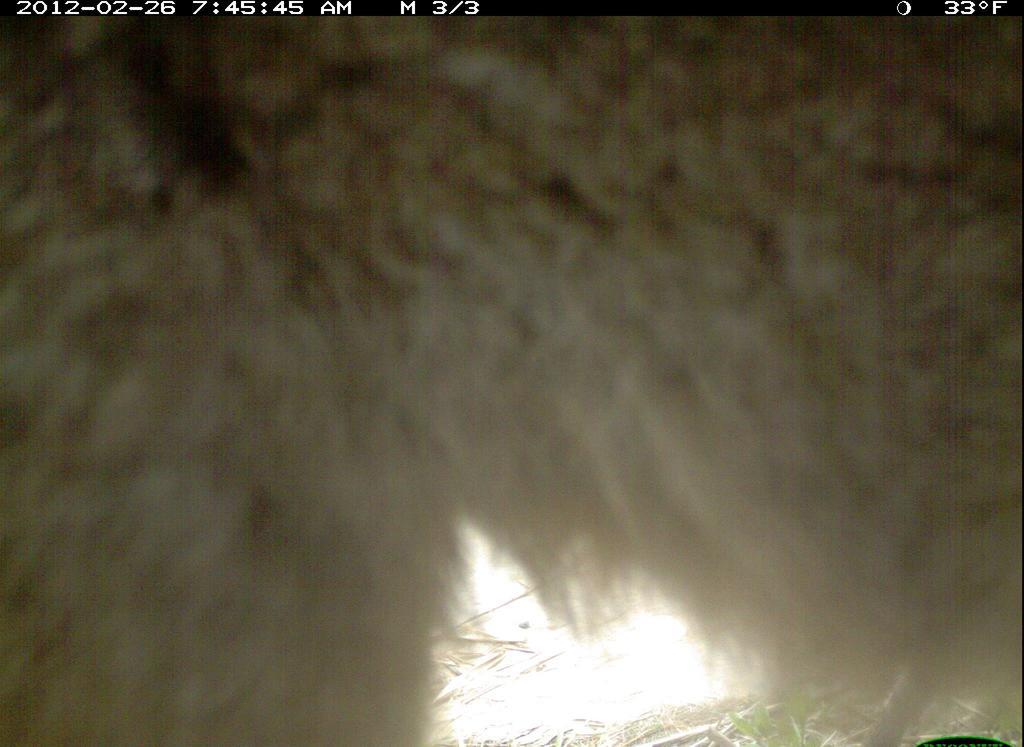coyote: (3, 17, 1023, 747)
